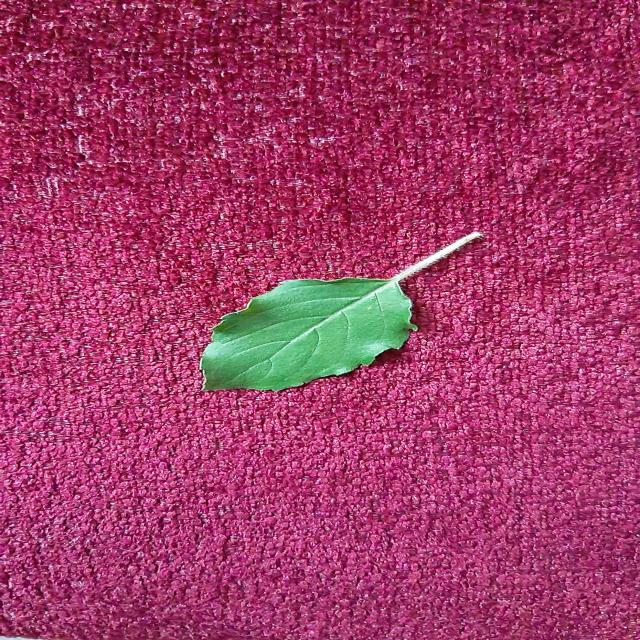tulsi: (201, 278, 415, 390)
